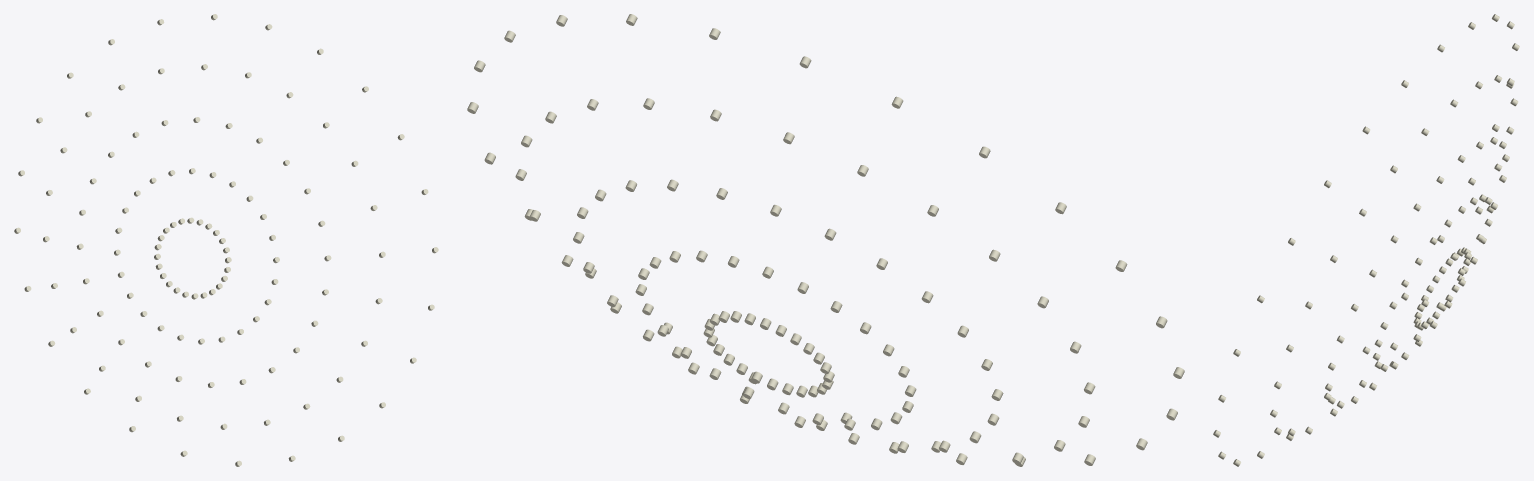
Rendered from Reflector_Mounts.glb.
The picture shows the model from 3 angles, left to right: view 1: azimuth 30°, elevation 25°; view 2: azimuth 150°, elevation 25°; view 3: azimuth 270°, elevation 25°; orthographic projection. The views are drawn at different scales.
Parts seen in each view (by area): view 1: Reflector_Mounts; view 2: Reflector_Mounts; view 3: Reflector_Mounts.
Part boxes in pixels (left/top/right/bottom): Reflector_Mounts: left=14, top=14, right=438, bottom=466; Reflector_Mounts: left=467, top=14, right=1184, bottom=466; Reflector_Mounts: left=1213, top=14, right=1519, bottom=466.
Size of the model in its own units: 23.88 by 19.7 by 13.9.
